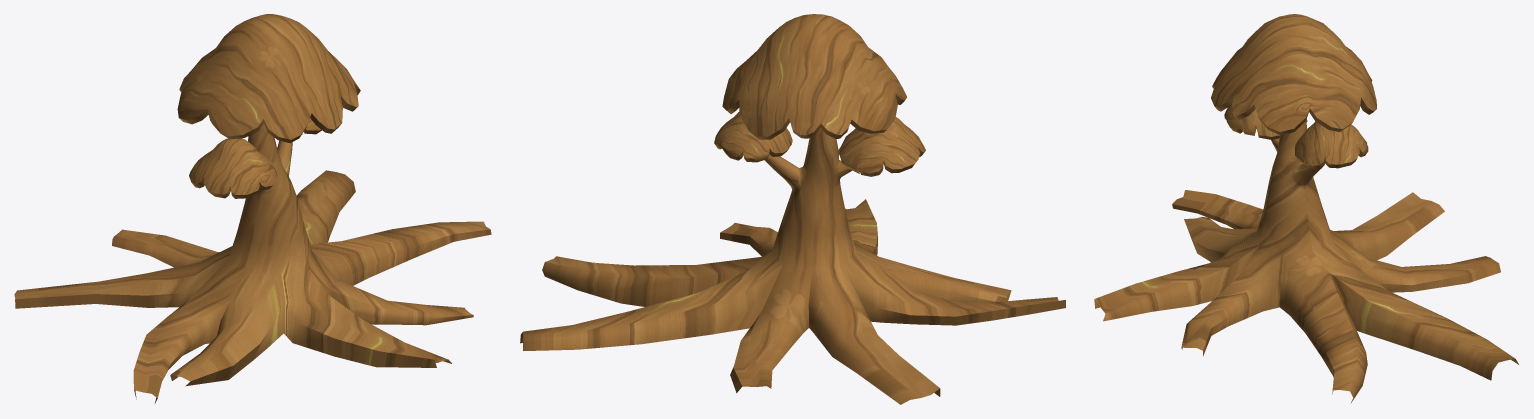
The model's file is House_Magical_Tree_Big.fbx.
3 views of the same model, side by side, from view 1: azimuth 30°, elevation 25°; view 2: azimuth 150°, elevation 25°; view 3: azimuth 270°, elevation 25° (orthographic). The views are drawn at different scales.
Visible parts, largest first — view 1: House_Magical_Tree_Big; view 2: House_Magical_Tree_Big; view 3: House_Magical_Tree_Big.
Part boxes in pixels (left/top/right/bottom): House_Magical_Tree_Big: left=14, top=14, right=491, bottom=403; House_Magical_Tree_Big: left=520, top=14, right=1065, bottom=404; House_Magical_Tree_Big: left=1094, top=14, right=1518, bottom=403.
Bounding box in the file's own units: 4.69 × 3.06 × 4.25.
